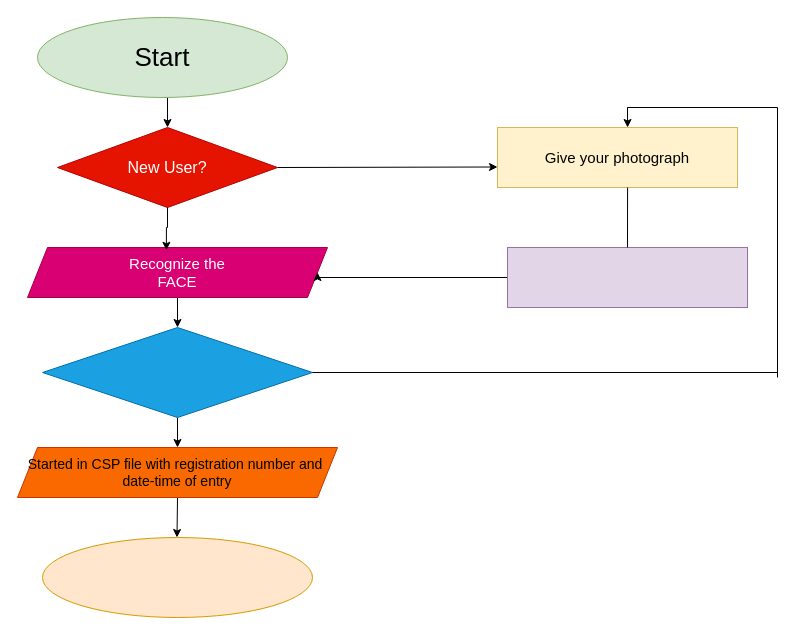
The diagram is 796 pixels wide and 635 high, and some of its shapes have lost their labels. The shapes that lost their labels are listed below. From the top down, each one's centre as x and y in pixels, then its label:
At (627,277): "Store the face data in folder can your name".
At (177,372): "Face Recognised".
At (177,577): "End".
